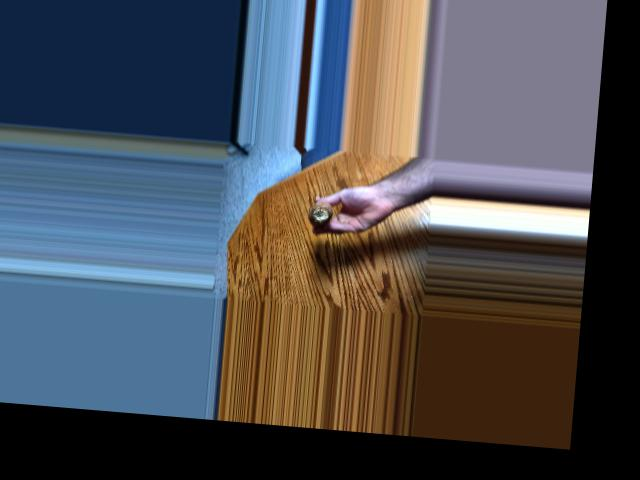sweet_potato: (301, 197, 334, 224)
